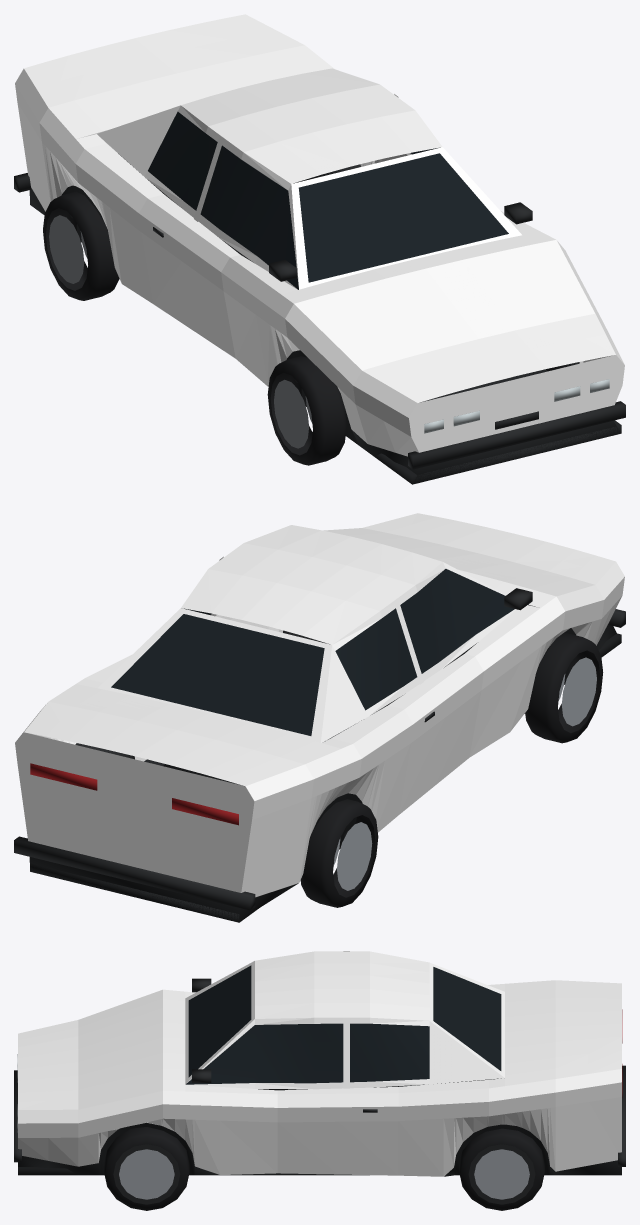
The model's file is castellani_savia.glb.
The picture shows the model from 3 angles, top to bottom: view 1: azimuth 30°, elevation 25°; view 2: azimuth 150°, elevation 25°; view 3: azimuth 270°, elevation 25°; orthographic projection. The views are drawn at different scales.
Parts seen in each view (by area): view 1: Body_Paint, Body_Details, Mount_FrontLeft_Wheel_Details, Mount_RearLeft_Wheel_Details; view 2: Body_Paint, Body_Details, Mount_FrontLeft_Wheel_Details, Mount_RearLeft_Wheel_Details; view 3: Body_Paint, Body_Details, Mount_FrontRight_Wheel_Details, Mount_RearRight_Wheel_Details.
Boxes of the visible parts, bbox=[...] form: Body_Paint: bbox=[15, 14, 624, 456]; Body_Details: bbox=[14, 111, 625, 484]; Mount_FrontLeft_Wheel_Details: bbox=[267, 356, 346, 465]; Mount_RearLeft_Wheel_Details: bbox=[43, 191, 119, 300]; Body_Paint: bbox=[15, 513, 624, 897]; Body_Details: bbox=[14, 569, 625, 922]; Mount_FrontLeft_Wheel_Details: bbox=[525, 633, 603, 743]; Mount_RearLeft_Wheel_Details: bbox=[300, 799, 378, 907]; Body_Paint: bbox=[18, 951, 621, 1176]; Body_Details: bbox=[14, 965, 625, 1176]; Mount_FrontRight_Wheel_Details: bbox=[104, 1127, 189, 1210]; Mount_RearRight_Wheel_Details: bbox=[459, 1128, 544, 1210].
Size of the model in its own units: 1.77 by 1.31 by 4.14.
2 materials, 1 textured.
